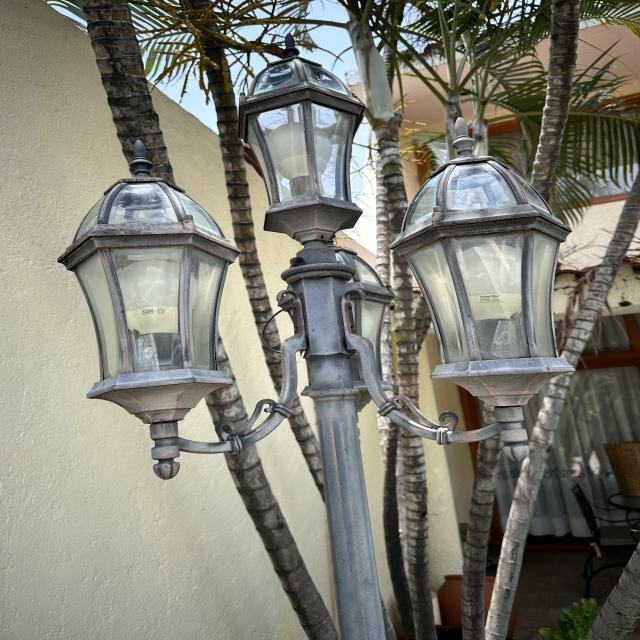hidden camera: (294, 257, 305, 265)
